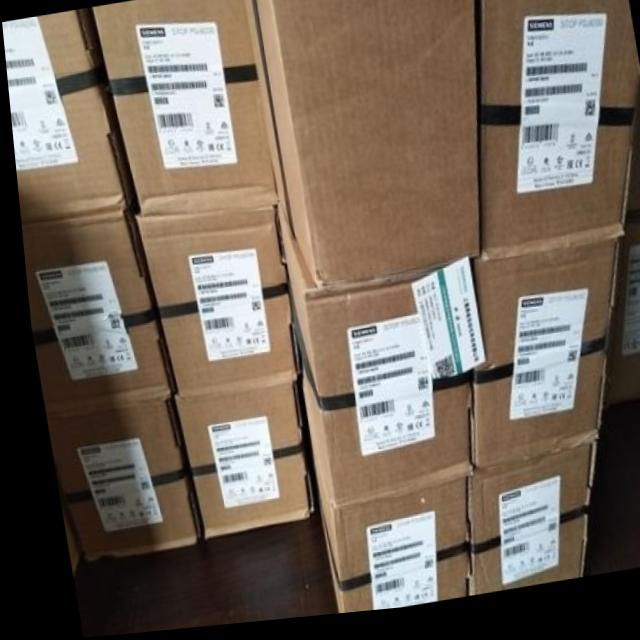box: (250, 0, 474, 291), (271, 213, 467, 509), (469, 0, 638, 268), (91, 0, 275, 218), (462, 252, 612, 482), (17, 210, 169, 413), (132, 213, 292, 399), (2, 11, 135, 223), (301, 461, 460, 619), (39, 397, 190, 560), (164, 379, 302, 541), (456, 453, 586, 602), (594, 222, 640, 419), (38, 411, 73, 575), (621, 91, 640, 225)
